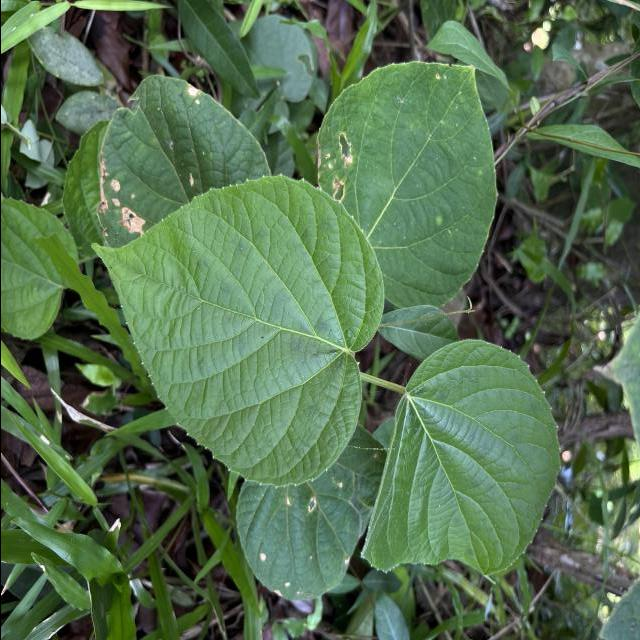Clerodendrum infortunatum: (87, 170, 386, 490), (357, 337, 563, 586), (312, 58, 500, 312)
